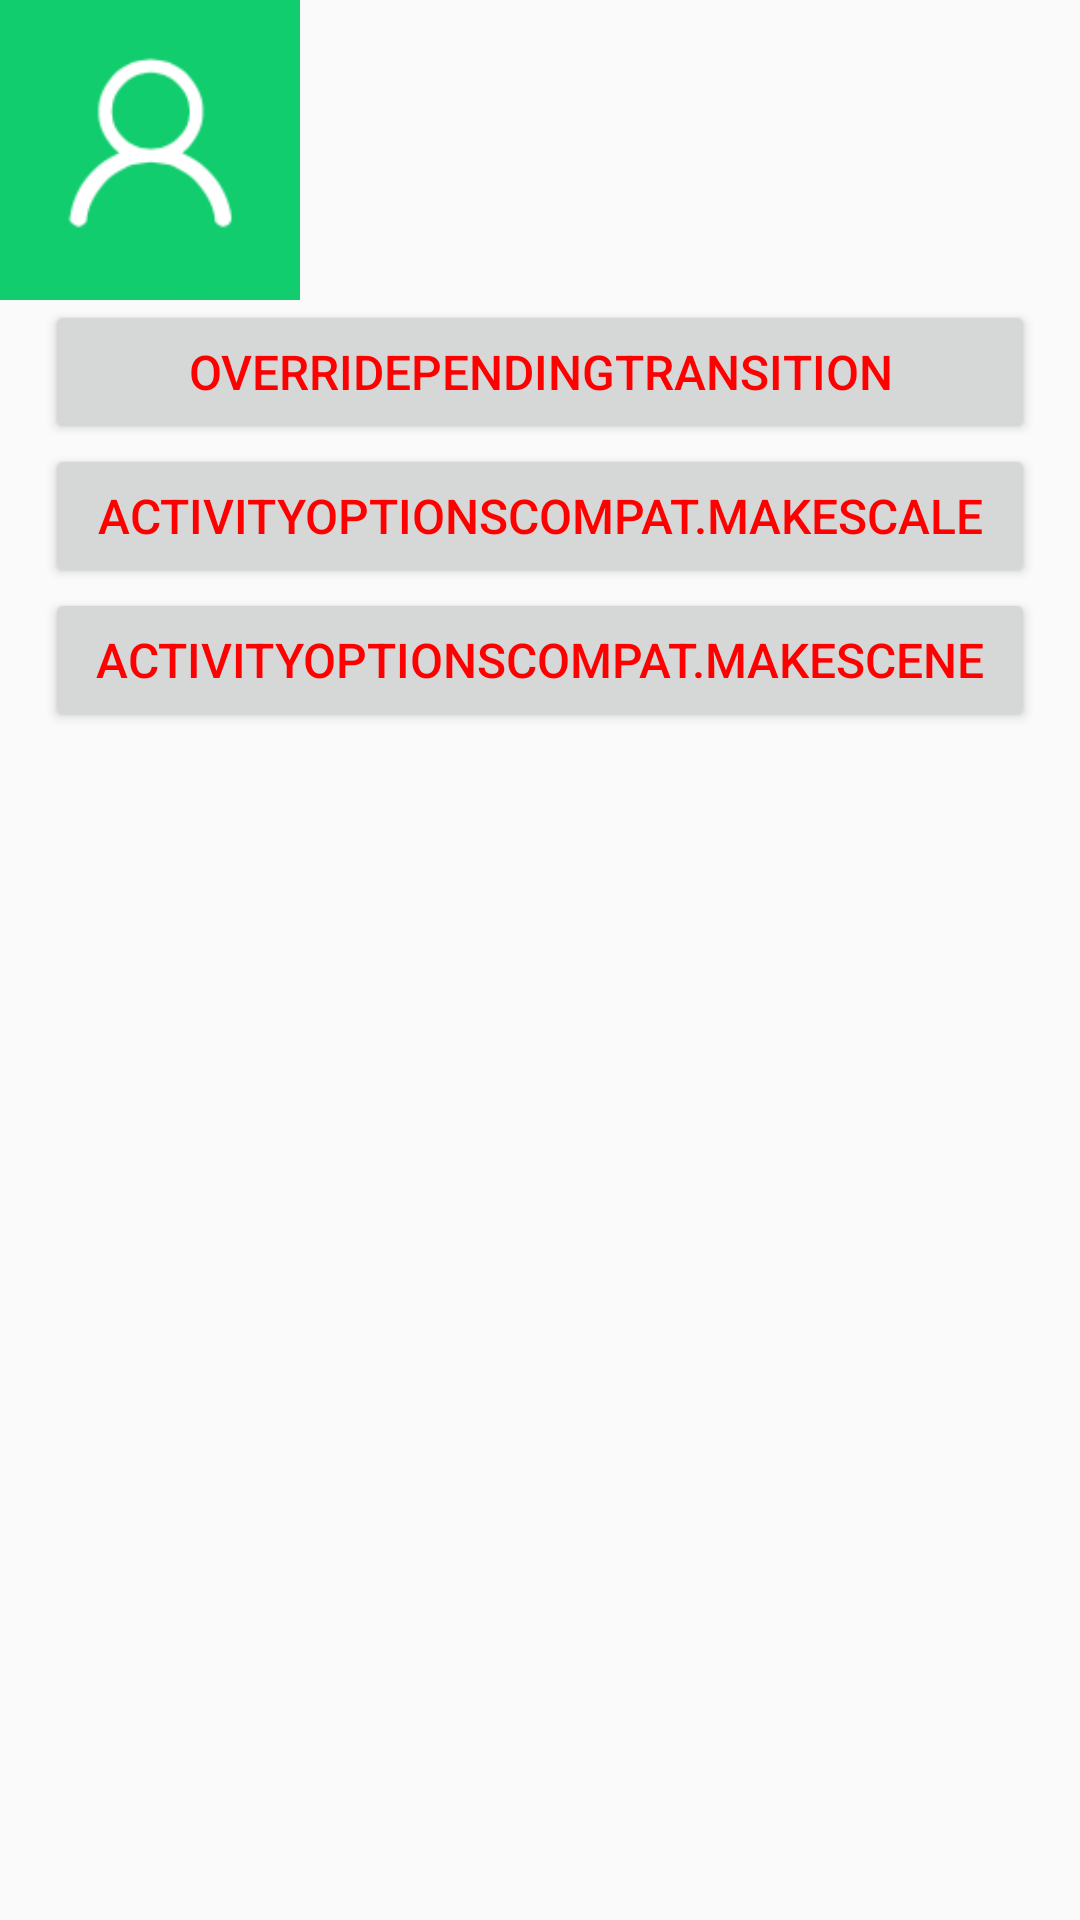

Where icons sit on this 1080 x 1920 app screen, as (x1, y1, x2, y2):
user avator: (0, 0, 300, 300)
